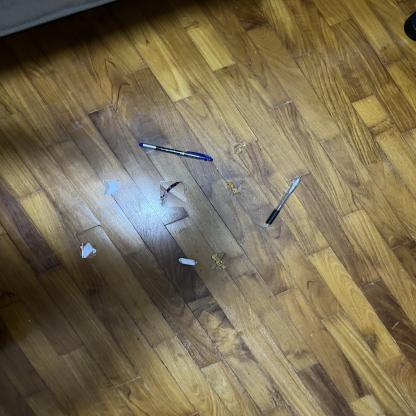dirty: (160, 181, 186, 207), (211, 253, 227, 269), (227, 180, 241, 196), (103, 180, 119, 194), (81, 244, 95, 257), (234, 142, 246, 154)
